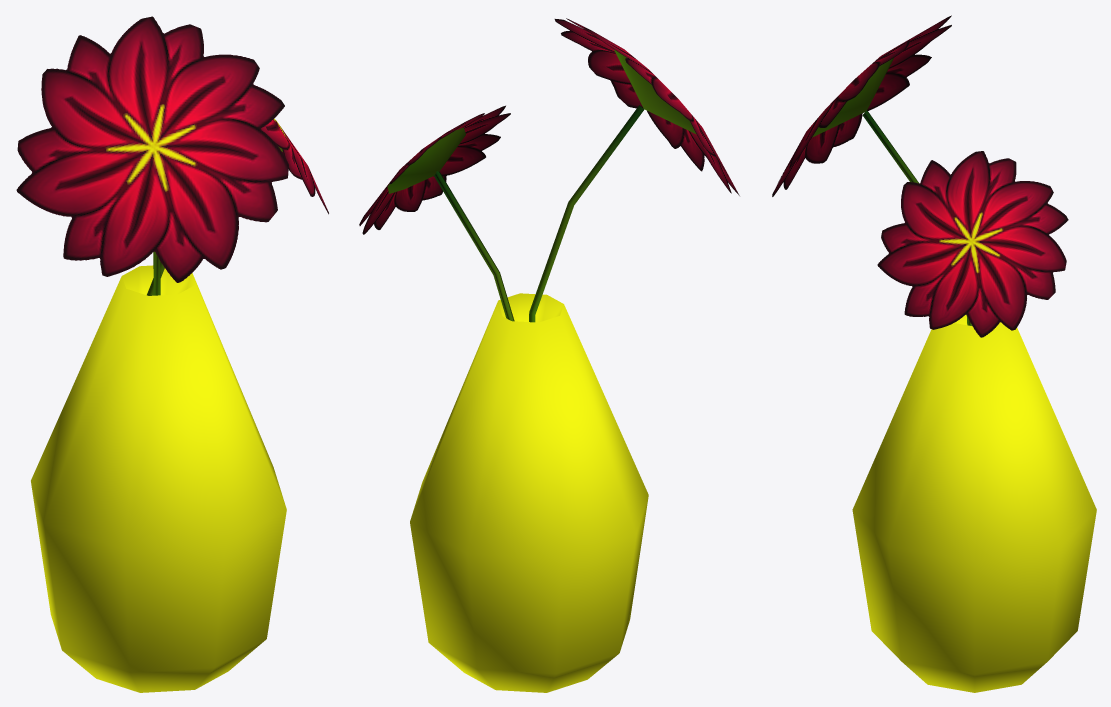
File: FLowers_A_3.FBX
3 renders of one model, left to right at view 1: azimuth 30°, elevation 25°; view 2: azimuth 150°, elevation 25°; view 3: azimuth 270°, elevation 25°, orthographic. The views are drawn at different scales.
Parts seen in each view (by area): view 1: Vase_And_Flowers; view 2: Vase_And_Flowers; view 3: Vase_And_Flowers.
Part boxes in pixels (<box>): Vase_And_Flowers: <box>16,16,328,692</box>; Vase_And_Flowers: <box>359,18,739,692</box>; Vase_And_Flowers: <box>772,15,1096,692</box>.
Size of the model in its own units: 80.48 by 155 by 73.7.
